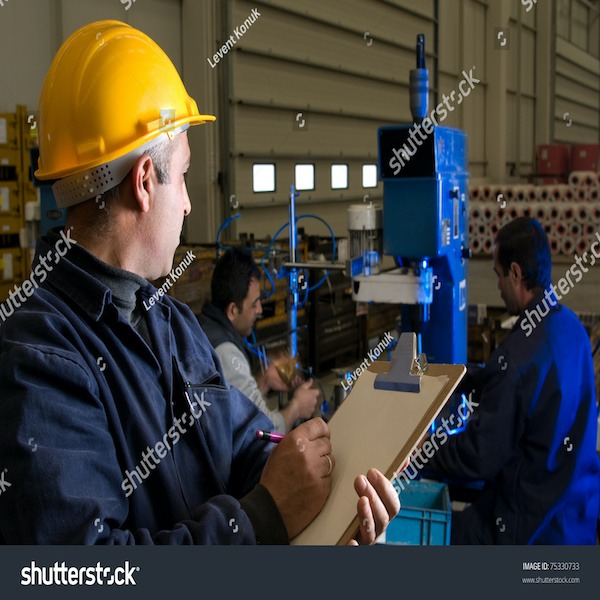helmet: (39, 18, 214, 179)
